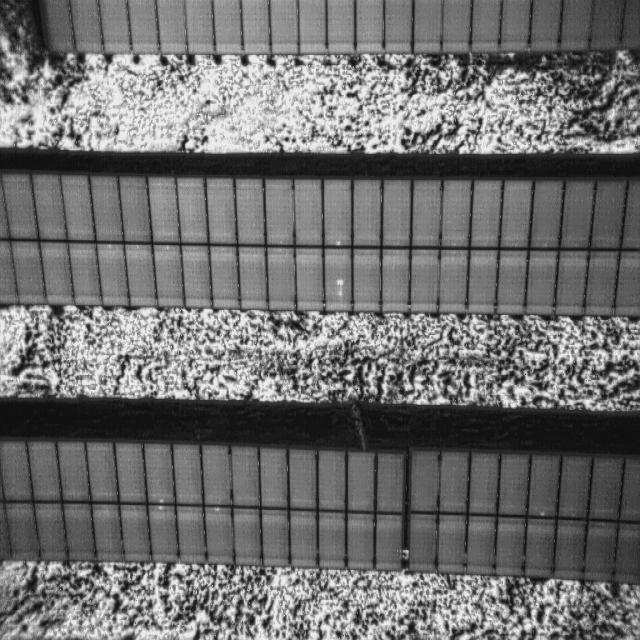hotspot: (336, 277, 345, 297), (159, 497, 168, 514), (334, 236, 344, 246)
